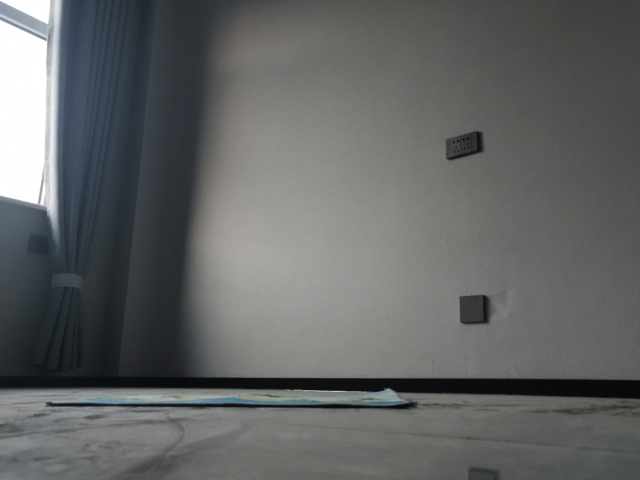carpet: (43, 386, 420, 412)
curtain: (29, 1, 135, 375)
